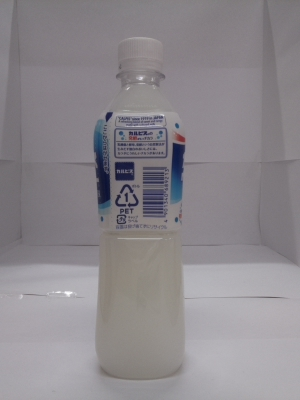calpis: (84, 29, 199, 389)
